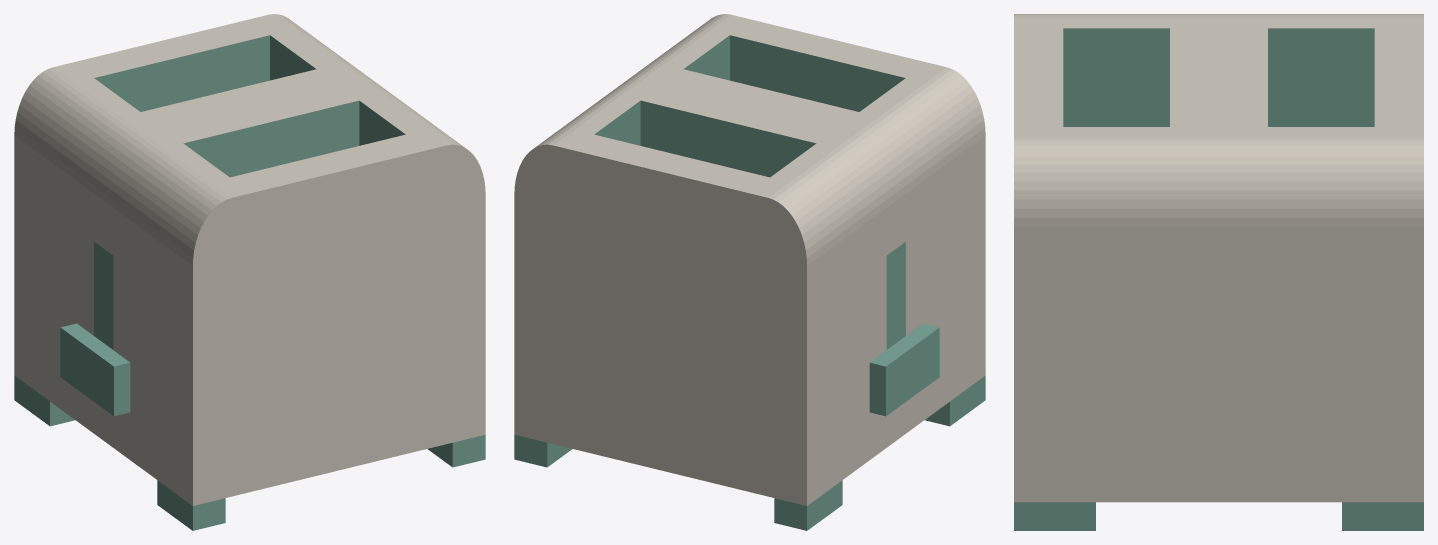
The model's file is toaster.glb.
3 views of the same model, side by side, from view 1: azimuth 30°, elevation 25°; view 2: azimuth 150°, elevation 25°; view 3: azimuth 270°, elevation 25° (orthographic). The views are drawn at different scales.
Bounding box in the file's own units: 1 × 1 × 1.
